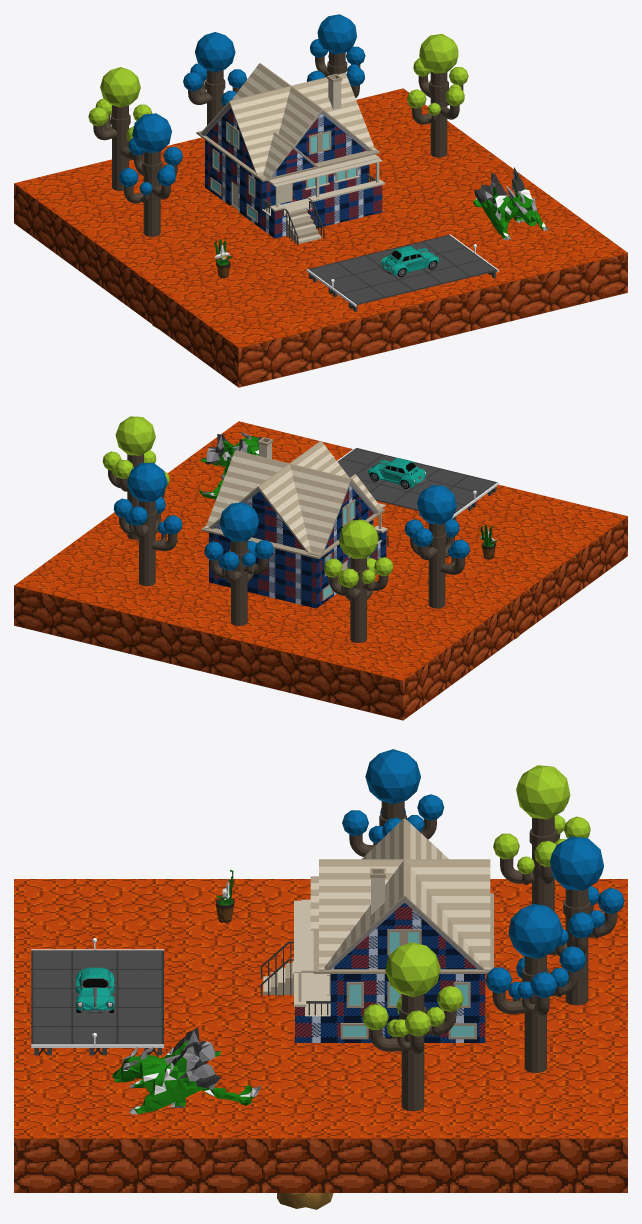
3 renders of one model, top to bottom at view 1: azimuth 30°, elevation 25°; view 2: azimuth 150°, elevation 25°; view 3: azimuth 270°, elevation 25°, orthographic. The views are drawn at different scales.
Visible parts, largest first — view 1: Cube.001, Cube.171, ANIMAL_DRAGON, VEHICLES_VOLKSWAGEN; view 2: Cube.001, Cube.171, ANIMAL_DRAGON, VEHICLES_VOLKSWAGEN; view 3: Cube.001, Cube.171, ANIMAL_DRAGON, VEHICLES_VOLKSWAGEN, UNDERGROUND_T_REX_BONES.
Part boxes in pixels (x1,y1,x2,y2): Cube.001: [14, 14, 627, 387]; Cube.171: [196, 63, 384, 245]; ANIMAL_DRAGON: [473, 167, 549, 240]; VEHICLES_VOLKSWAGEN: [379, 246, 439, 277]; Cube.001: [14, 416, 627, 720]; Cube.171: [201, 437, 388, 608]; ANIMAL_DRAGON: [199, 432, 261, 499]; VEHICLES_VOLKSWAGEN: [367, 457, 427, 488]; Cube.001: [14, 749, 627, 1192]; Cube.171: [260, 818, 493, 1042]; ANIMAL_DRAGON: [112, 1027, 260, 1114]; VEHICLES_VOLKSWAGEN: [76, 967, 114, 1013]; UNDERGROUND_T_REX_BONES: [277, 1193, 333, 1209].
Bounding box in the file's own units: 4000 × 1777 × 4000.
34 materials, 5 textured.
